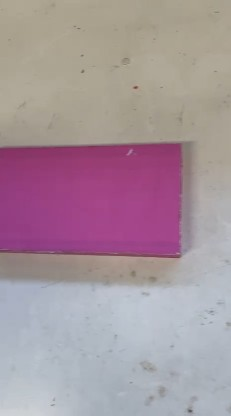pink: (18, 138, 187, 253)
